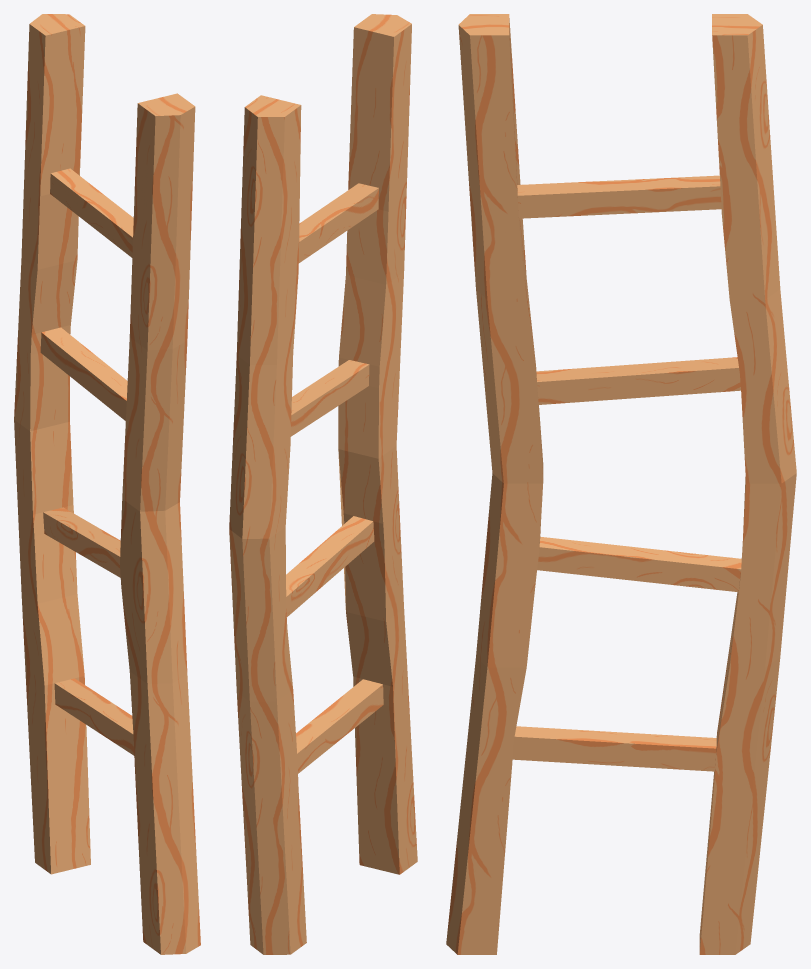
Rendered from ladder.fbx.
3 views of the same model, side by side, from view 1: azimuth 30°, elevation 25°; view 2: azimuth 150°, elevation 25°; view 3: azimuth 270°, elevation 25° (orthographic). The views are drawn at different scales.
Parts seen in each view (by area): view 1: Cube; view 2: Cube; view 3: Cube.
Boxes of the visible parts, left/top/right/bottom form: Cube: left=14, top=14, right=200, bottom=954; Cube: left=229, top=14, right=417, bottom=954; Cube: left=446, top=14, right=796, bottom=954.
Size of the model in its own units: 22.81 by 400 by 138.
